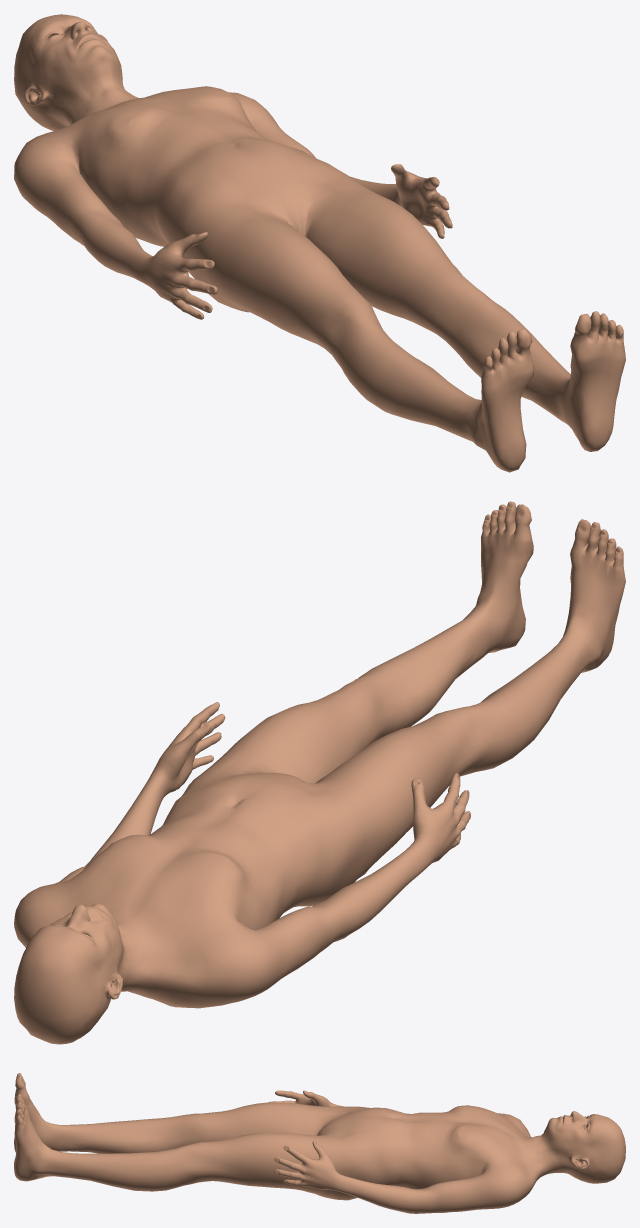
The model's file is body.obj.
3 renders of one model, top to bottom at view 1: azimuth 30°, elevation 25°; view 2: azimuth 150°, elevation 25°; view 3: azimuth 270°, elevation 25°, orthographic. The views are drawn at different scales.
Visible parts, largest first — view 1: testhuman-base; view 2: testhuman-base; view 3: testhuman-base.
Part boxes in pixels (left/top/right/bottom): testhuman-base: left=14, top=14, right=625, bottom=472; testhuman-base: left=14, top=501, right=625, bottom=1044; testhuman-base: left=14, top=1073, right=625, bottom=1213.
Size of the model in its own units: 0.5435 by 0.3443 by 1.76.
